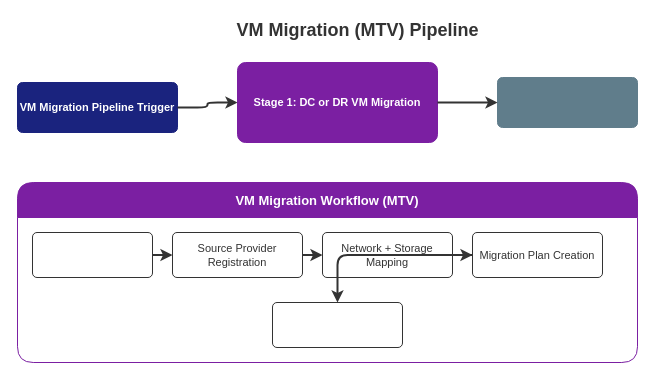
The diagram is 655 pixels wide and 380 high, and some of its shapes have lost their labels. The centre of each missing label's shape, as x and y in pixels:
Execute Migration: the point at 337,325
MTV Operator Install: the point at 92,255
Stage 2: Summary: the point at 567,102
